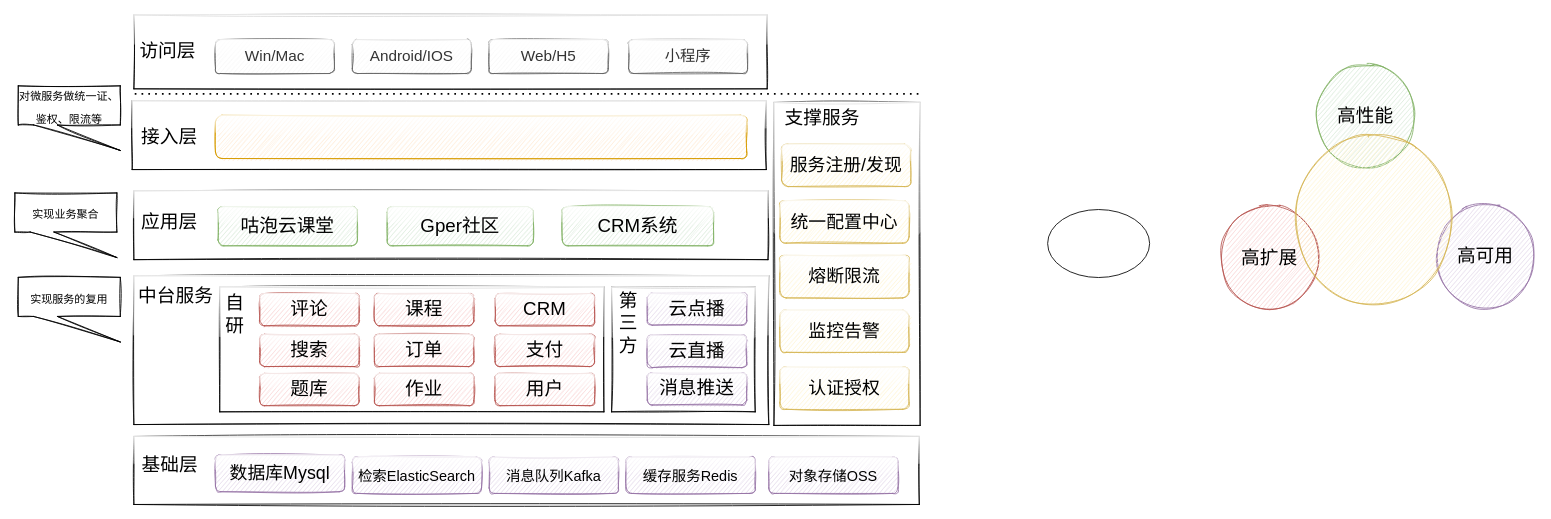
The diagram is 1551 pixels wide and 519 high, and some of its shapes have lost their labels. The shapes that lost their labels are listed below. From the top down, each one's centre as x and y in pixels, then its label:
(x=481, y=136): API Gateway
(x=1374, y=219): 高并发
